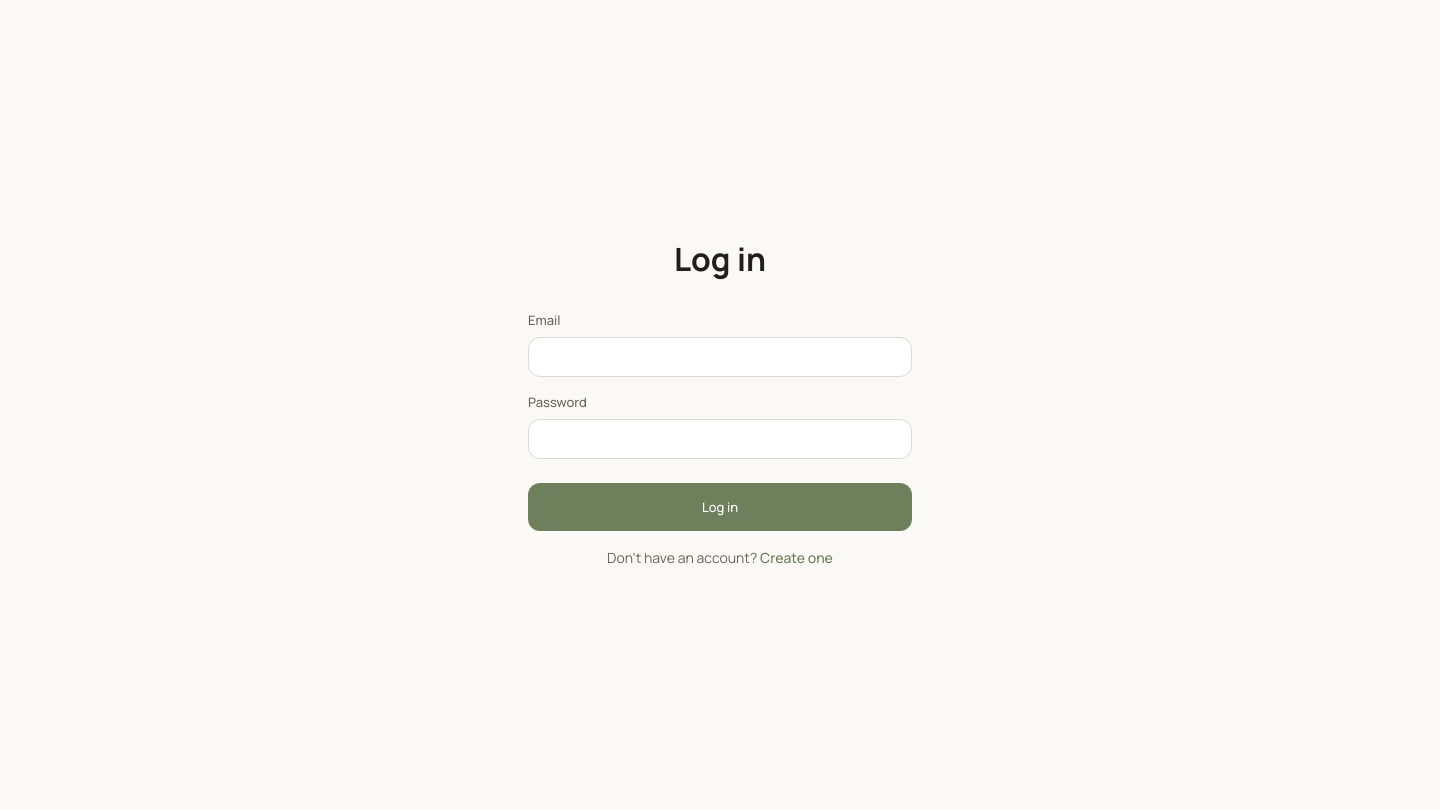
Scenario: App (routing + auth integration) › registering lands on the authenticated shell (Home page) with the user menu
Expected: the heading "Log in" is shown, [674,237,766,281]
Click the link "Create one": x=796, y=558 [760,548,833,567]
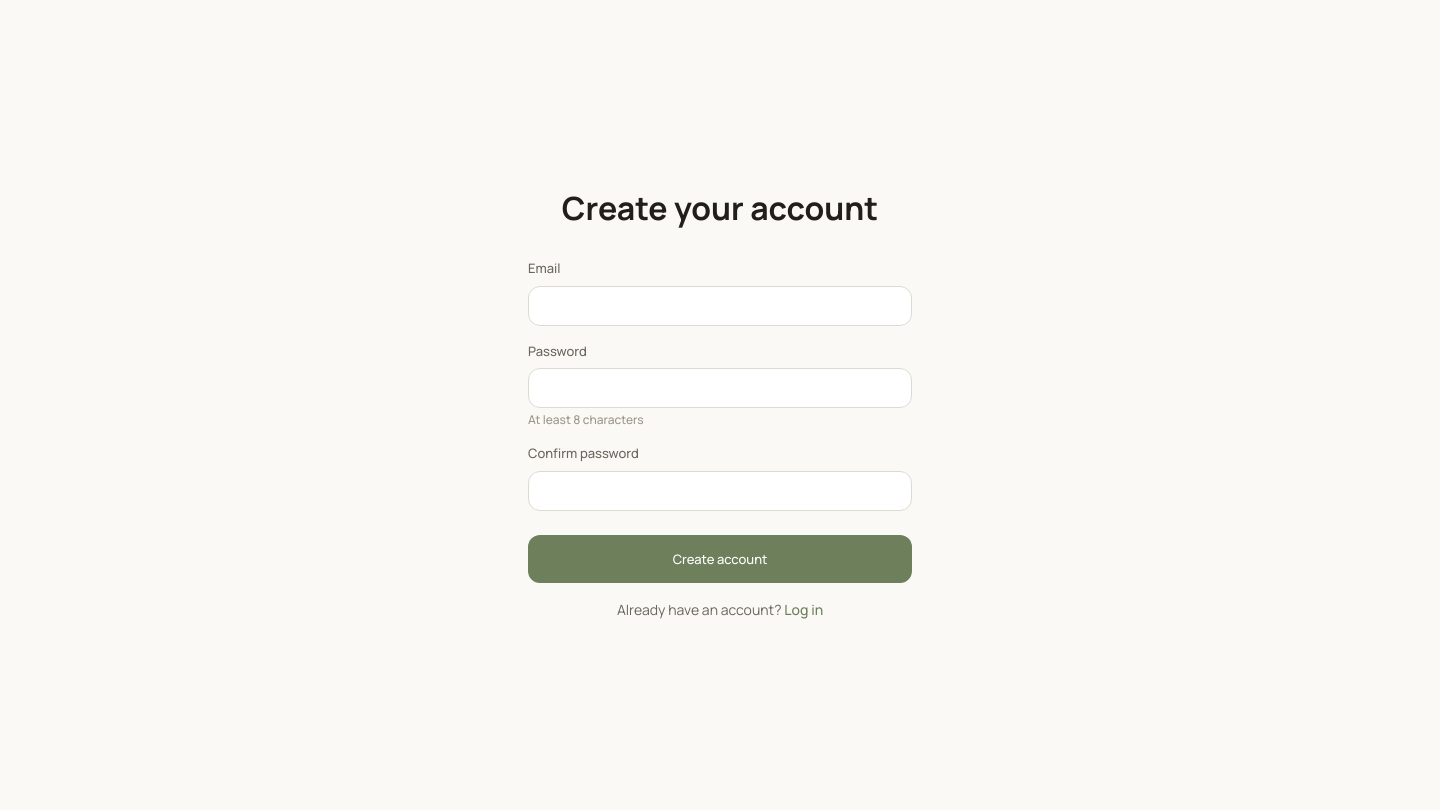
Now the heading "Create your account" is shown, box [562,186,878,230]
In the field labelled "Email": x=720, y=306 [528,286,912,326], type "person@example.com"
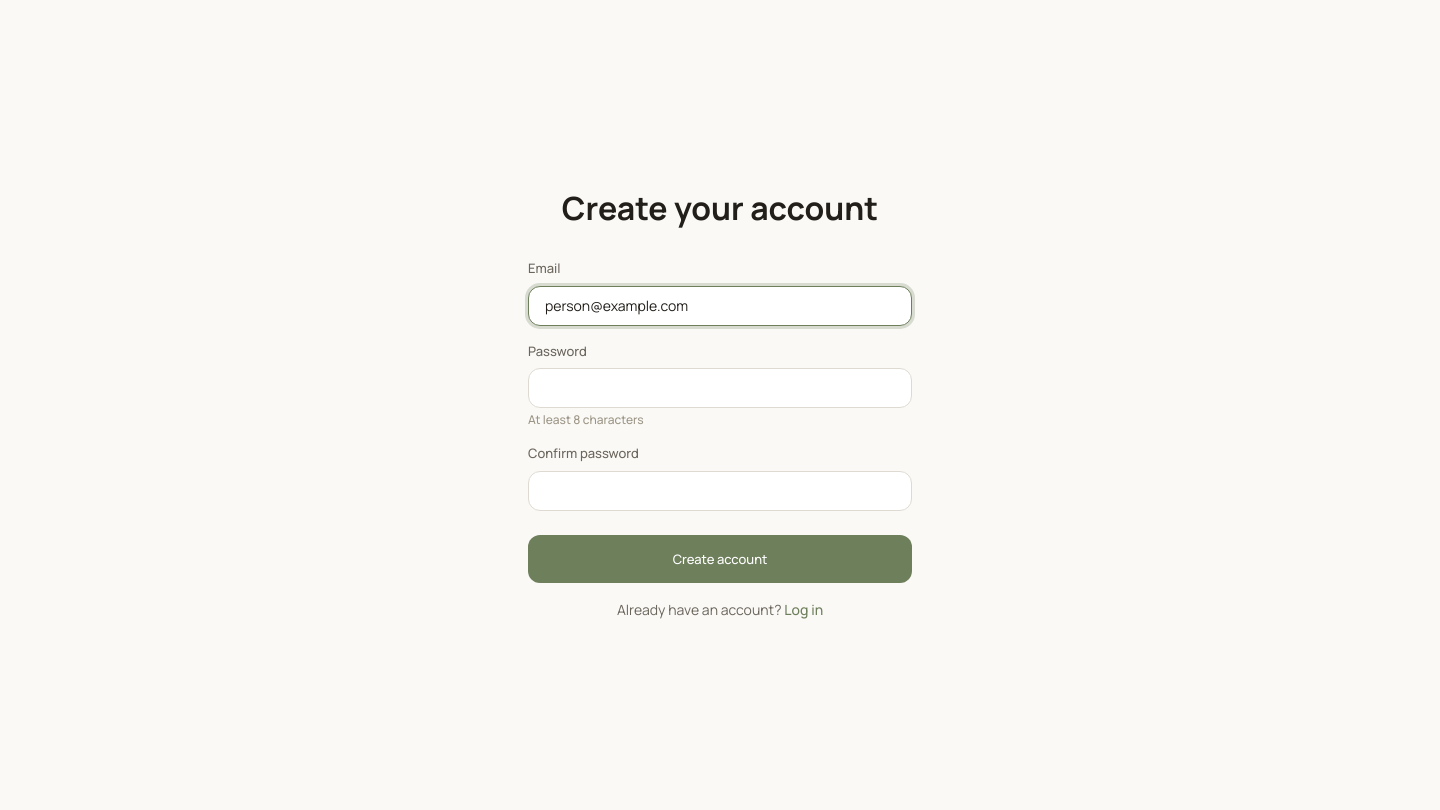
In the password field labelled "Password": x=720, y=388 [528,368,912,408], type "supersecret123"
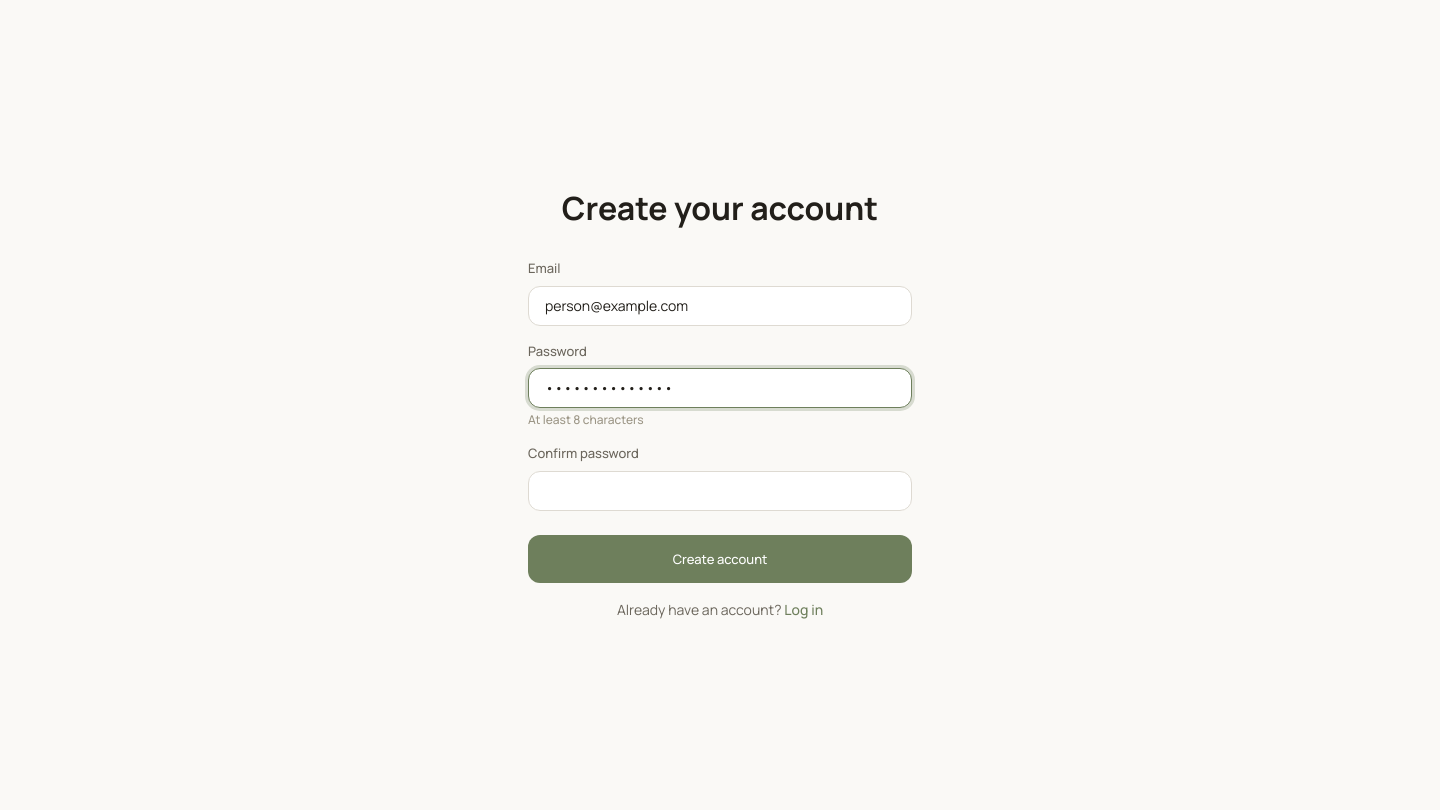
In the password field labelled "Confirm password": x=720, y=491 [528,471,912,511], type "supersecret123"
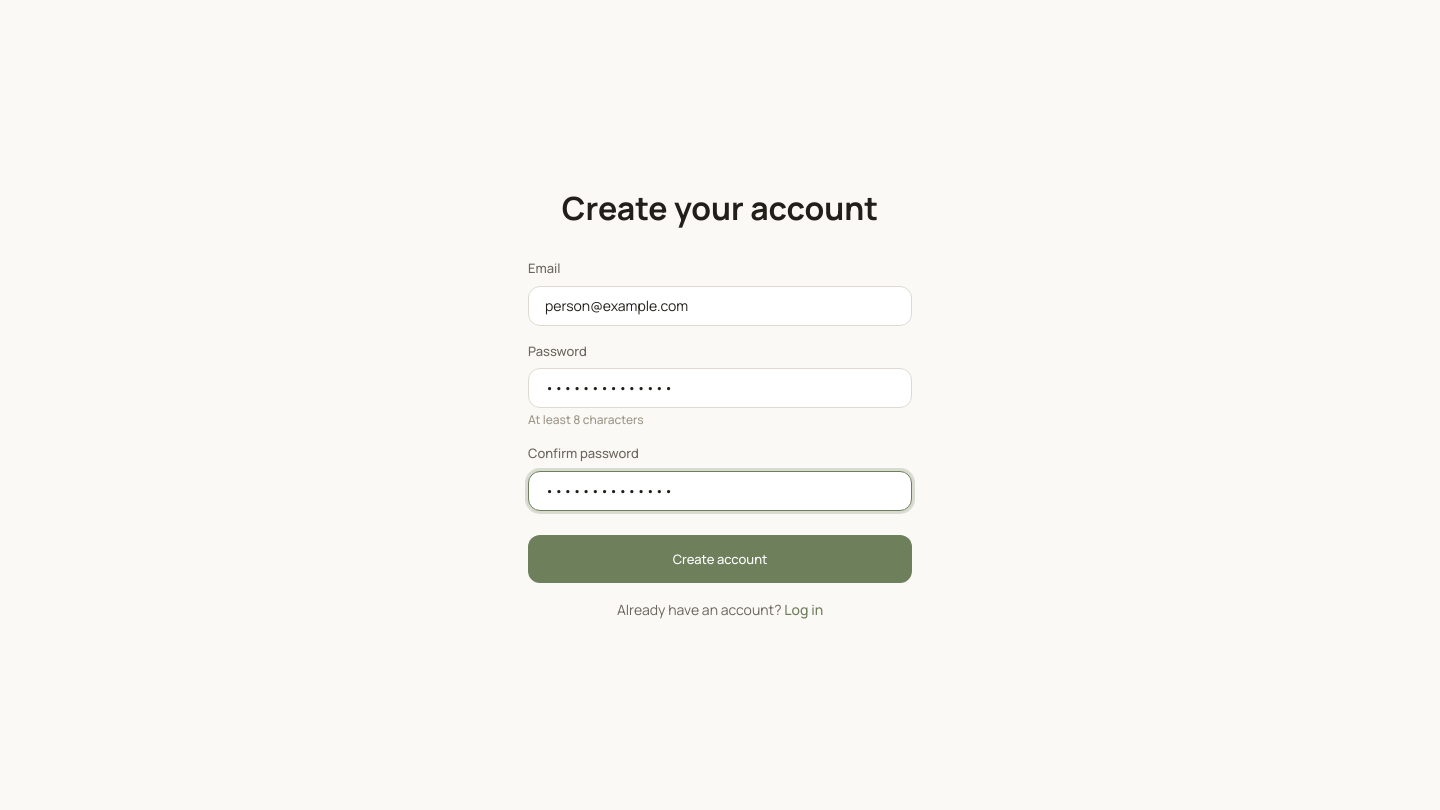
Click the button "Create account": x=720, y=559 [528,535,912,583]
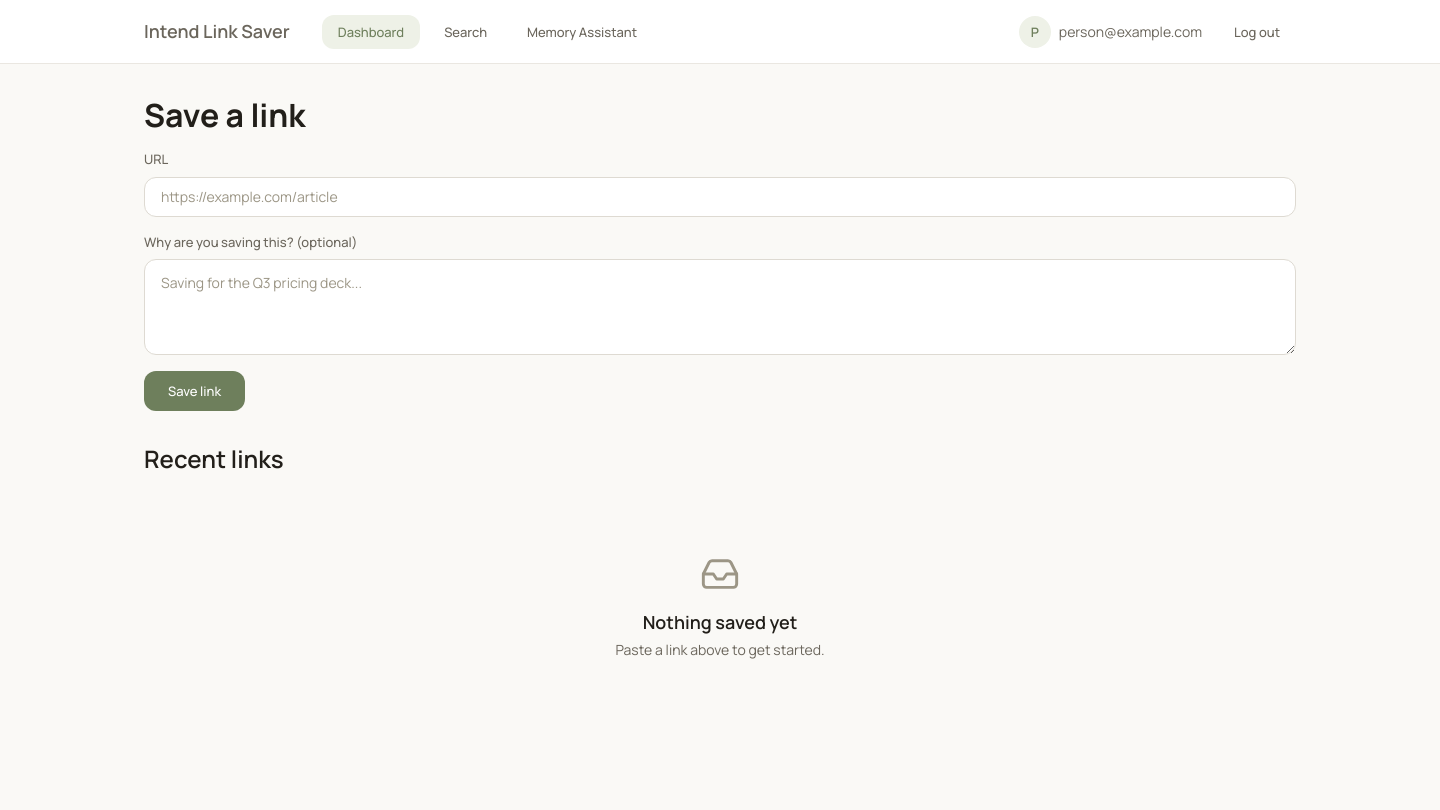
Now the header is shown, box [0,0,1439,64]
Now the text "person@example.com" is shown, box [1059,21,1202,43]
Now the heading "Save a link" is shown, box [144,93,306,137]
